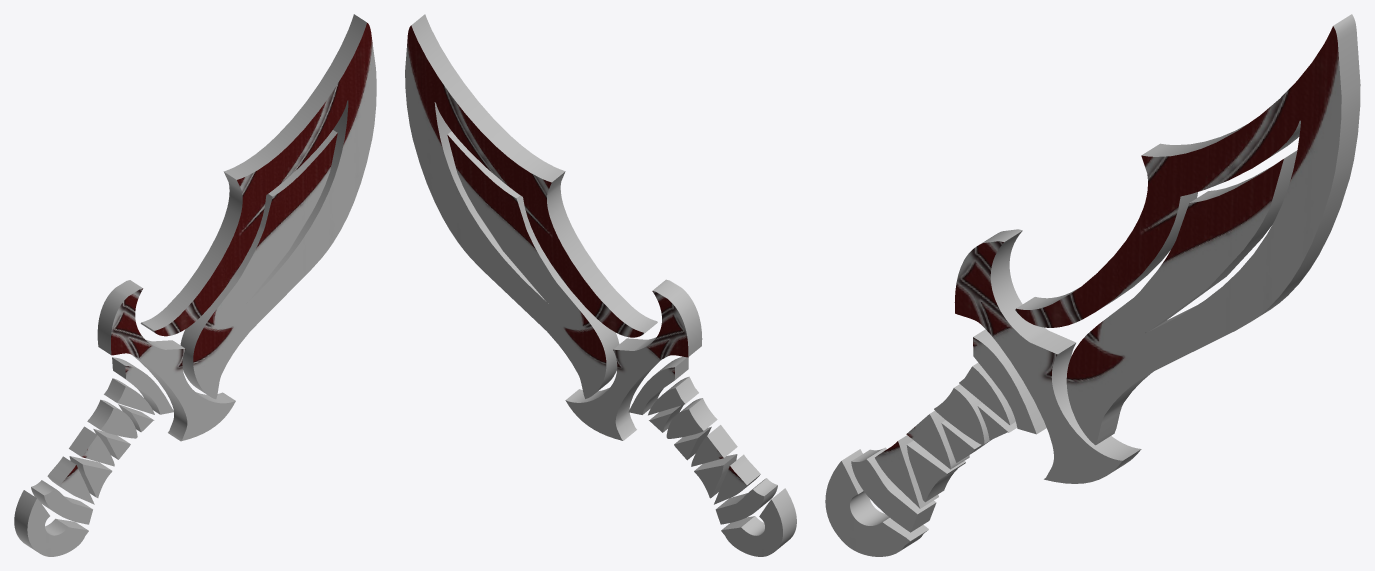
Rendered from dagger.gltf.
The picture shows the model from 3 angles, left to right: view 1: azimuth 30°, elevation 25°; view 2: azimuth 150°, elevation 25°; view 3: azimuth 330°, elevation 25°; orthographic projection. The views are drawn at different scales.
Visible parts, largest first — view 1: Capa 1; view 2: Capa 1; view 3: Capa 1.
Boxes of the visible parts, x1=… form: Capa 1: x1=14, y1=14, x2=376, y2=556; Capa 1: x1=405, y1=14, x2=796, y2=556; Capa 1: x1=825, y1=14, x2=1360, y2=556.
Bounding box in the file's own units: 0.6231 × 0.7439 × 0.0761.
Materials: 3 (3 with a texture image).
